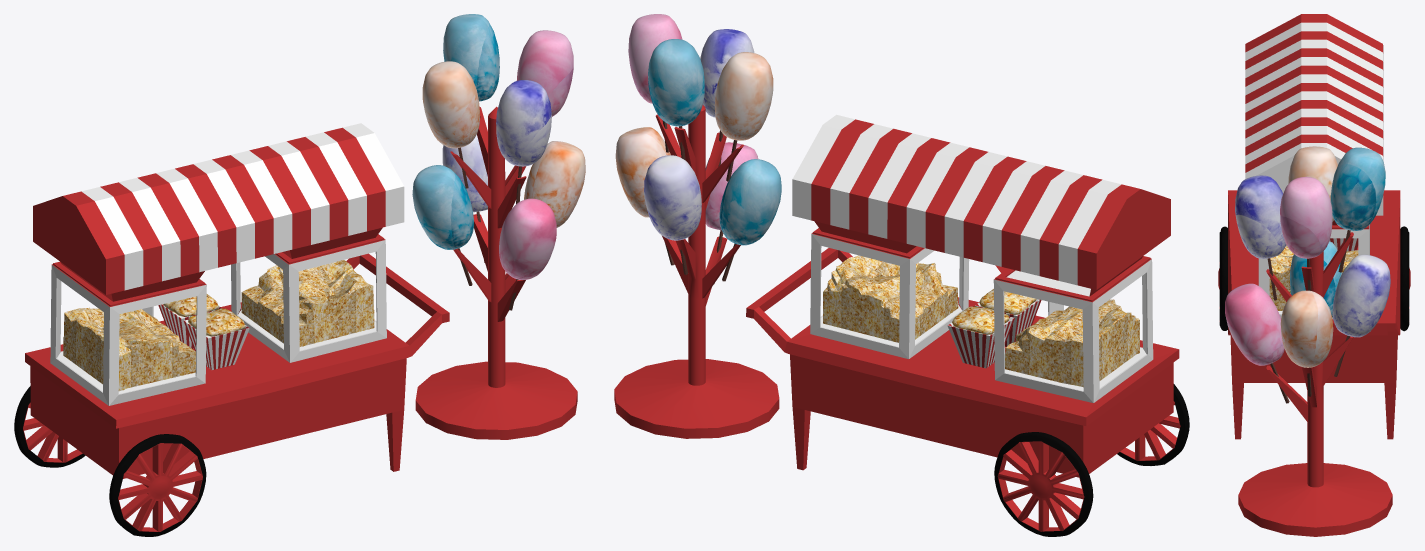
Rendered from Carrito.fbx.
3 renders of one model, left to right at view 1: azimuth 30°, elevation 25°; view 2: azimuth 150°, elevation 25°; view 3: azimuth 270°, elevation 25°, orthographic. The views are drawn at different scales.
Visible parts, largest first — view 1: Estructura, Algodon de azucar, Estructura Algodon, Pochoclos, Cono, Cono2; view 2: Estructura, Algodon de azucar, Estructura Algodon, Pochoclos, Cono2, Cono; view 3: Estructura, Algodon de azucar, Estructura Algodon, Pochoclos.
Boxes of the visible parts, x1=… form: Estructura: x1=14, y1=123, x2=449, y2=536; Algodon de azucar: x1=412, y1=14, x2=585, y2=310; Estructura Algodon: x1=415, y1=106, x2=577, y2=439; Pochoclos: x1=63, y1=260, x2=374, y2=391; Cono: x1=183, y1=308, x2=249, y2=369; Cono2: x1=158, y1=294, x2=221, y2=348; Estructura: x1=746, y1=114, x2=1189, y2=536; Algodon de azucar: x1=615, y1=14, x2=781, y2=283; Estructura Algodon: x1=614, y1=105, x2=779, y2=438; Pochoclos: x1=823, y1=255, x2=1139, y2=387; Cono2: x1=947, y1=306, x2=1014, y2=368; Cono: x1=975, y1=289, x2=1041, y2=346; Estructura: x1=1218, y1=14, x2=1410, y2=439; Algodon de azucar: x1=1225, y1=146, x2=1390, y2=403; Estructura Algodon: x1=1238, y1=232, x2=1392, y2=536; Pochoclos: x1=1269, y1=245, x2=1358, y2=310.
Size of the model in its own units: 672 by 463 by 229.
13 materials, 5 textured.
